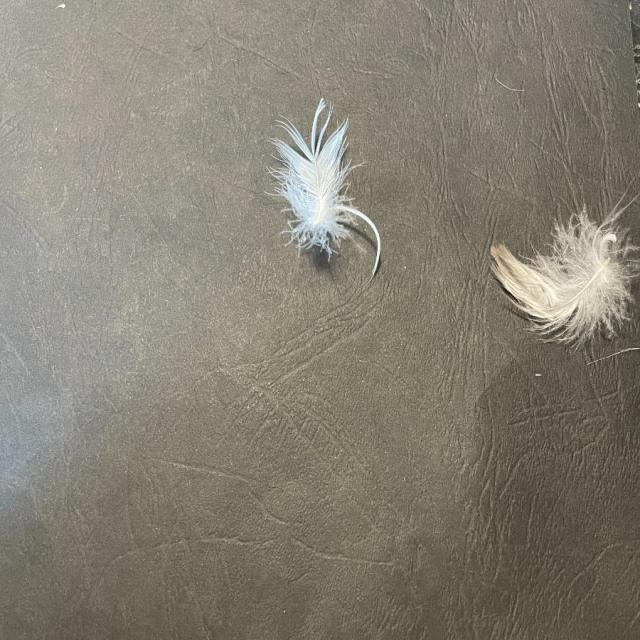feather: (488, 196, 638, 350), (268, 96, 381, 281)
